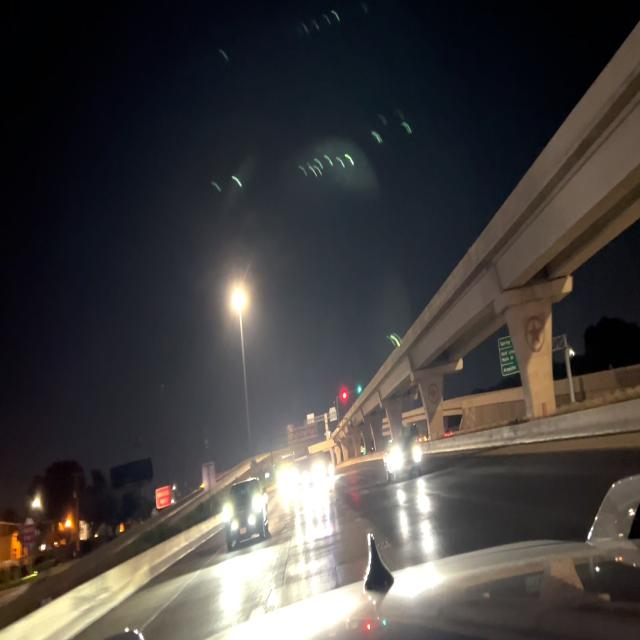back-of-sign: (286, 419, 323, 446), (202, 458, 218, 493)
